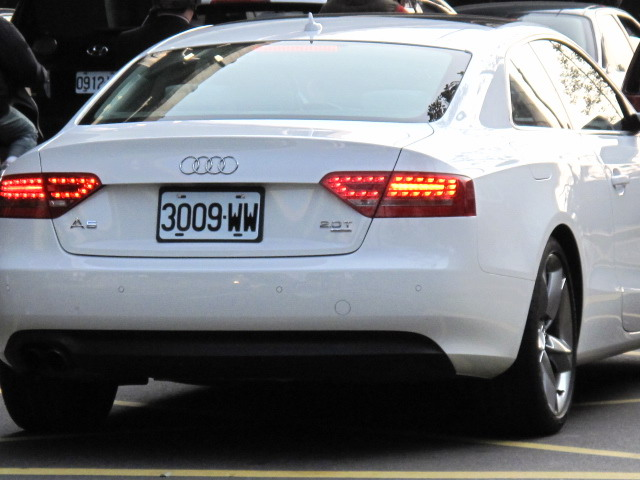plate: (153, 187, 266, 244), (72, 68, 115, 95)
